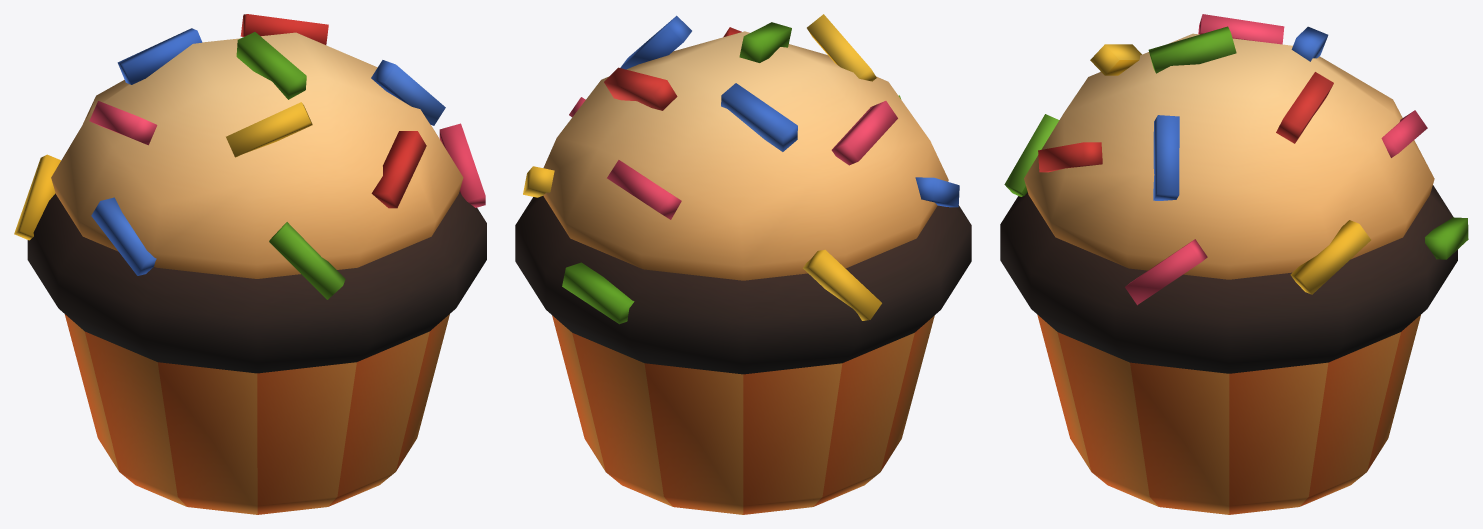
File: m_Cupcake06.fbx
The picture shows the model from 3 angles, left to right: view 1: azimuth 30°, elevation 25°; view 2: azimuth 150°, elevation 25°; view 3: azimuth 270°, elevation 25°; orthographic projection.
Visible parts, largest first — view 1: m_Cupcake06; view 2: m_Cupcake06; view 3: m_Cupcake06.
Part boxes in pixels (x1,y1,x2,y2): m_Cupcake06: (14,14,486,514); m_Cupcake06: (515,14,971,514); m_Cupcake06: (1000,14,1468,514).
Bounding box in the file's own units: 11.39 × 11.58 × 11.65.
